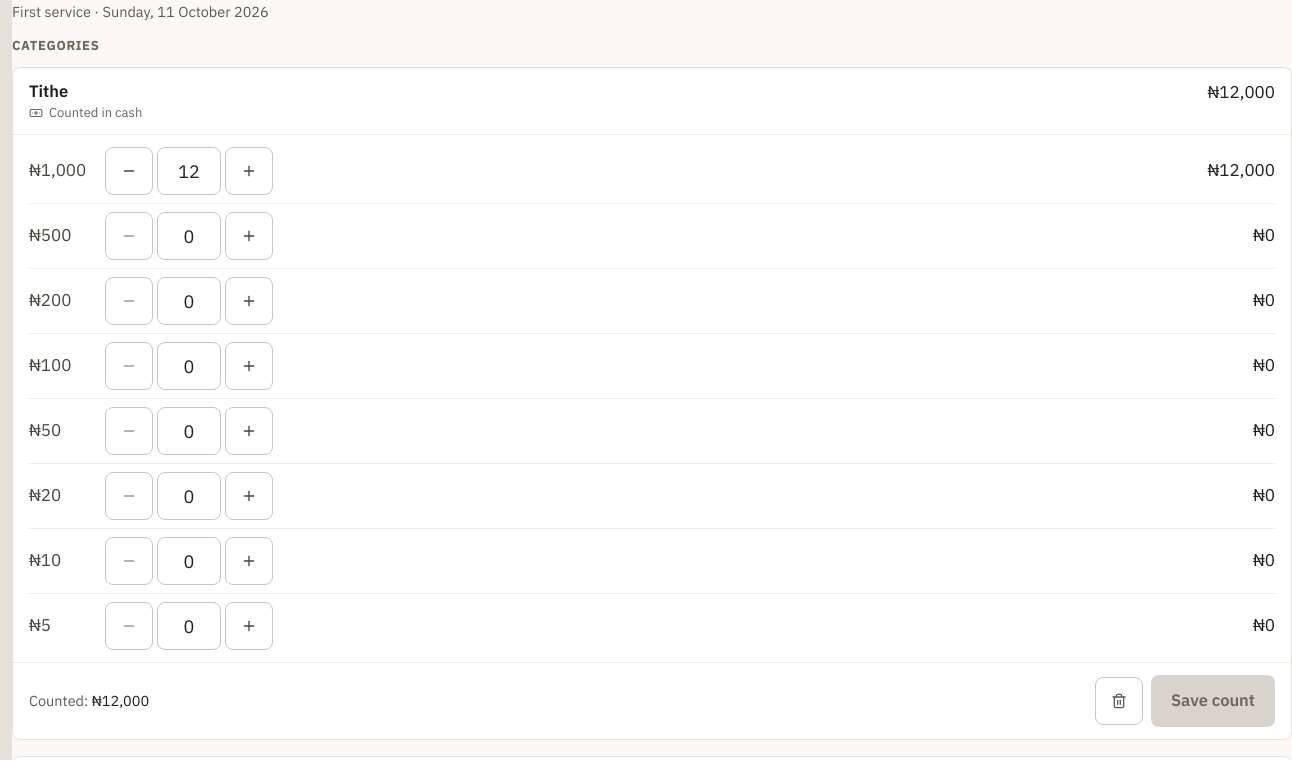
it: a counted but unsaved figure › counts a note tapped down to zero as unsaved money too
Replace the text in the field named "How many 1,000 naira notes" with "0": (189, 171) [157, 147, 221, 195]
(page scrolled)
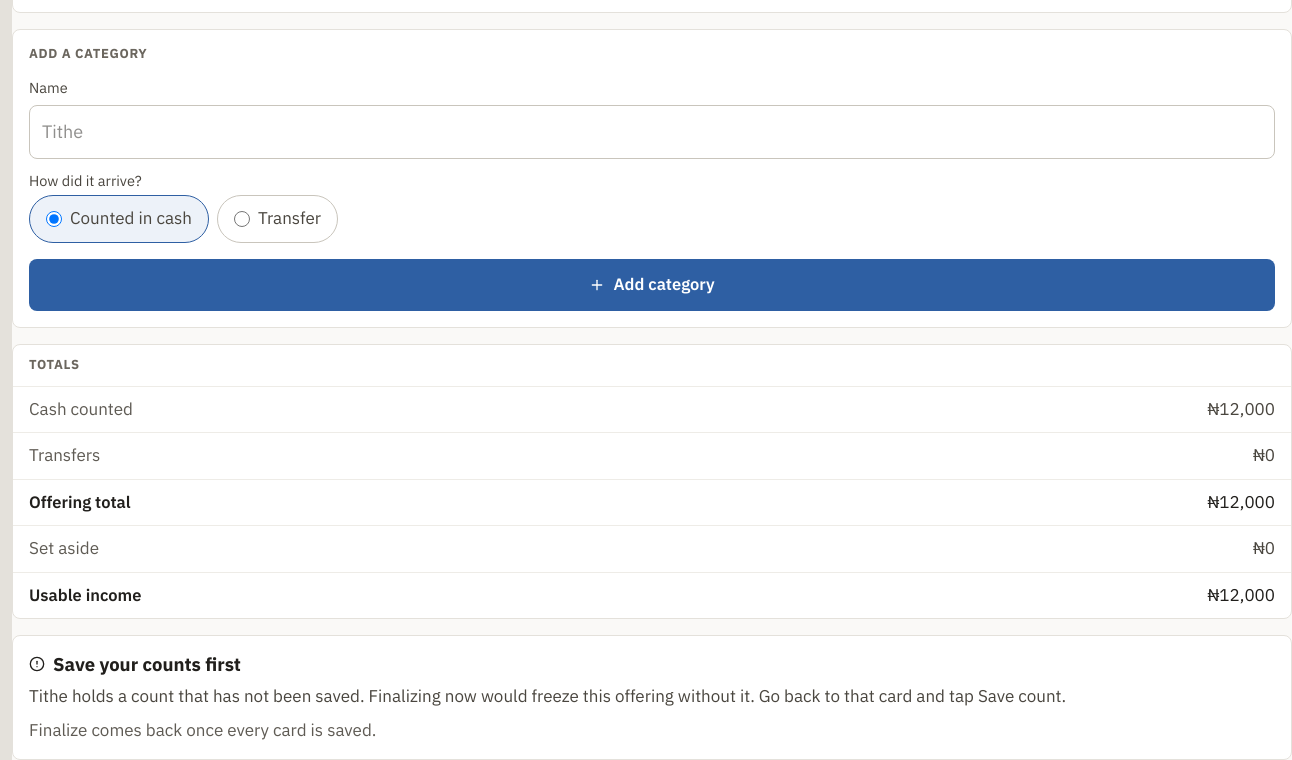
Expected: the element "first" shows "Tithe", [29, 685, 68, 707]
